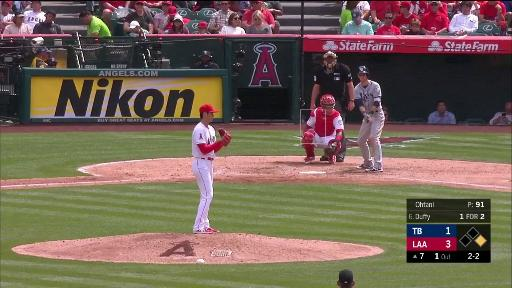pitcher: (190, 104, 231, 234)
